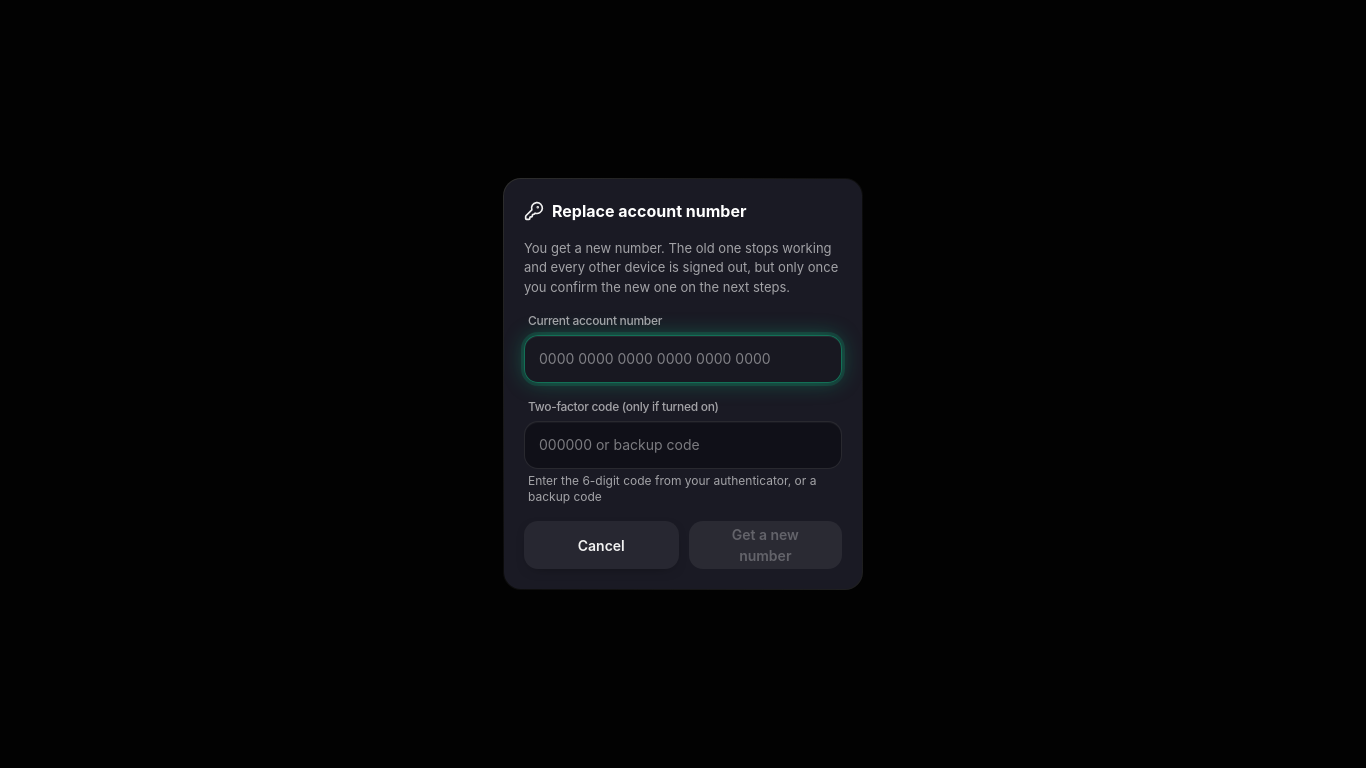
it: replacing the number › 403 anon_number_rotation_disabled: "not available yet", and nothing was started
This screenshot has width=1366, height=768.
Type "111122223333444455556666" into the field labelled "Current account number".
click(683, 359); type("111122223333444455556666")  # box [539,349,827,369]
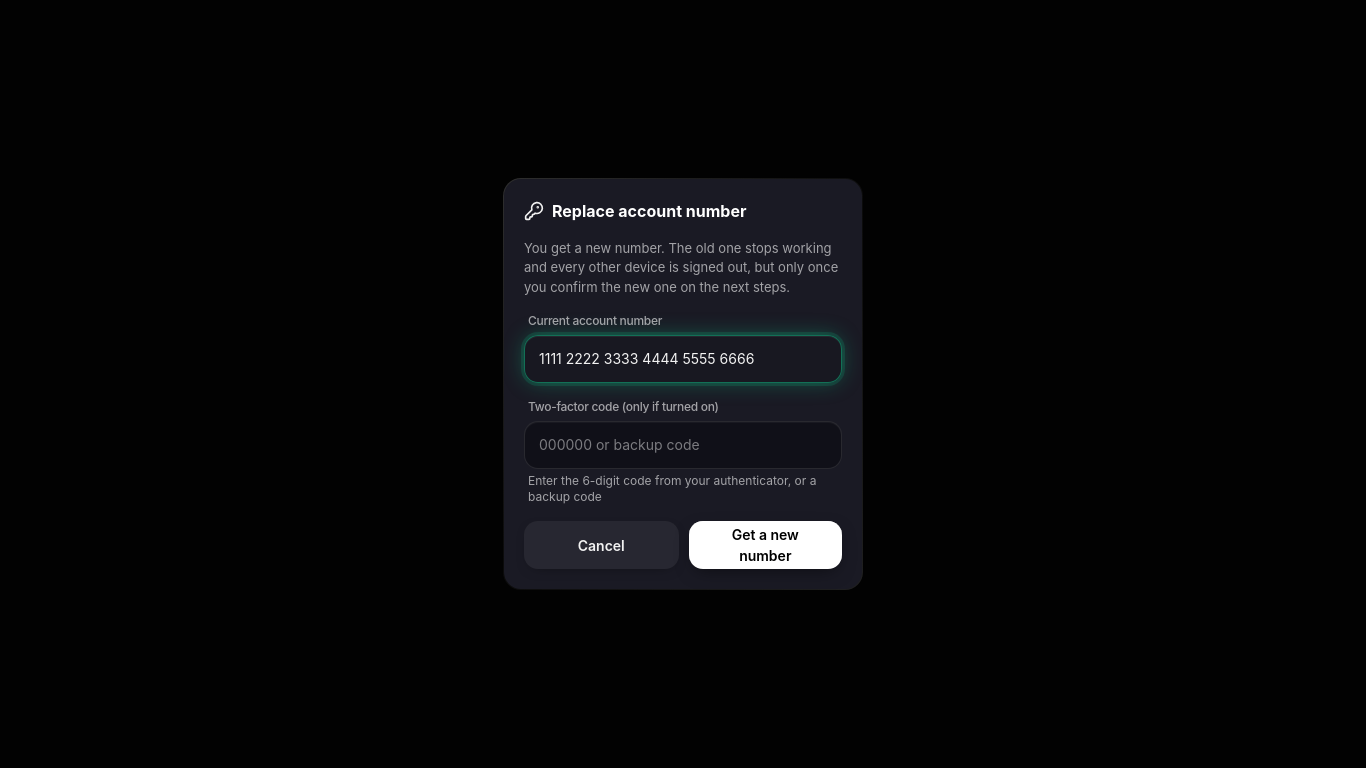
Click the button "Get a new number".
click(765, 545)  # box [689,521,842,569]
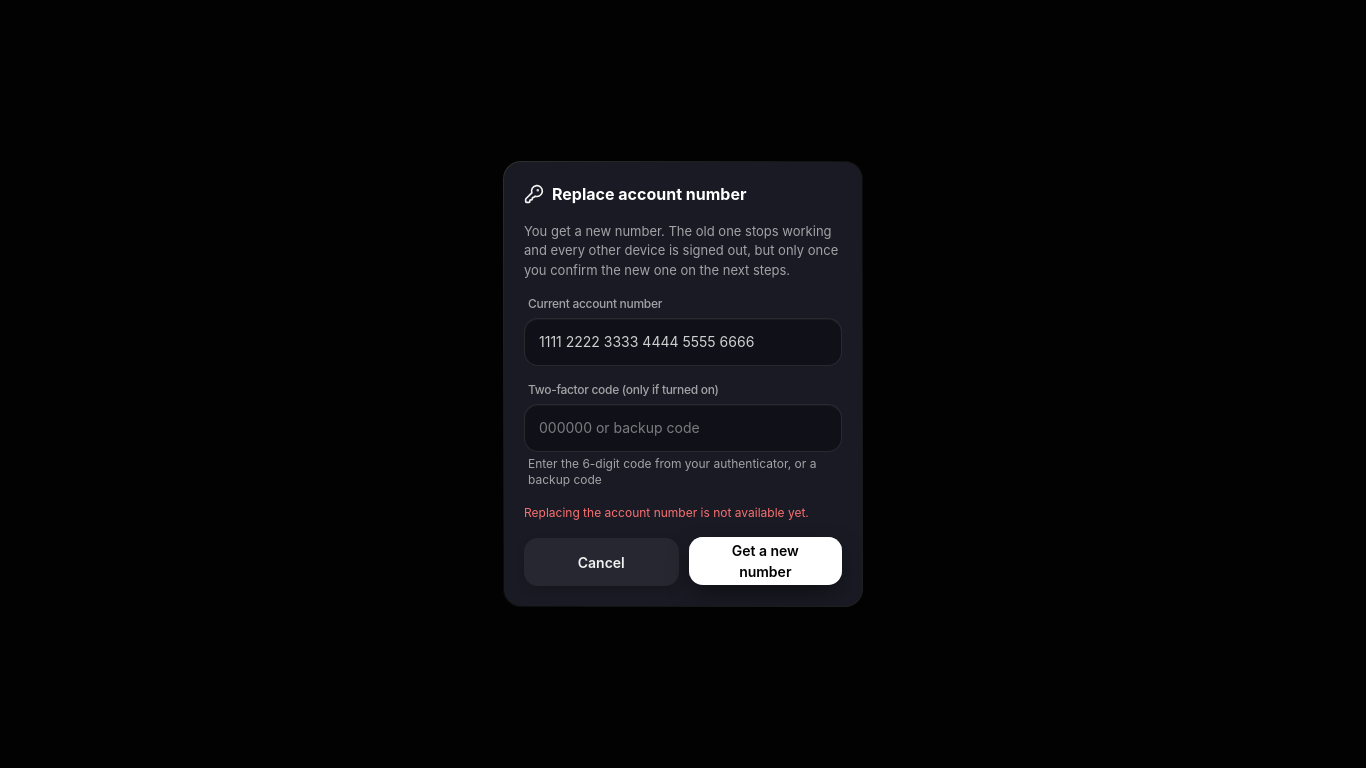
Result: the message reads "Replacing the account number is not available yet." at [524,505,809,520]
